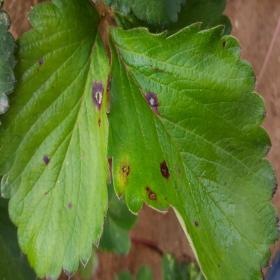Leaf Spot: (106, 22, 279, 279), (0, 0, 111, 279)
